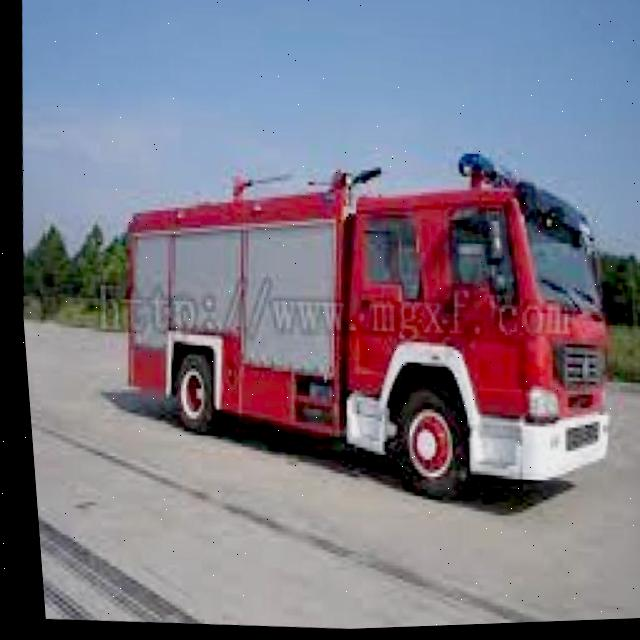emergency: (98, 128, 629, 509)
